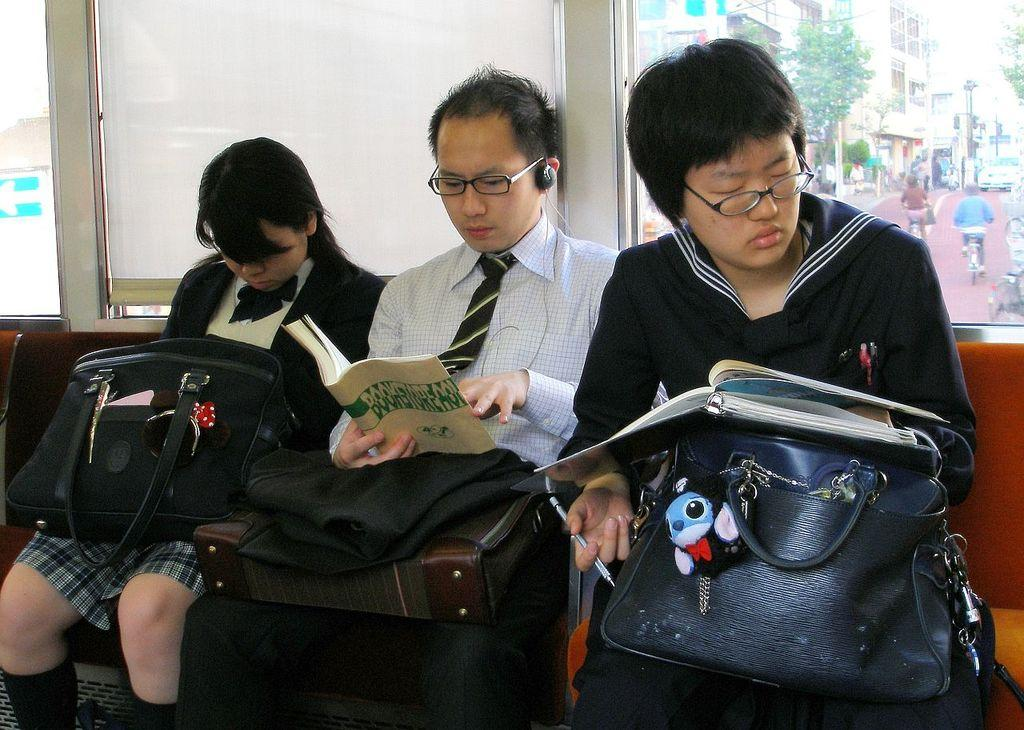Book: (511, 357, 949, 494)
Luggage-and-bags: (4, 332, 298, 565)
